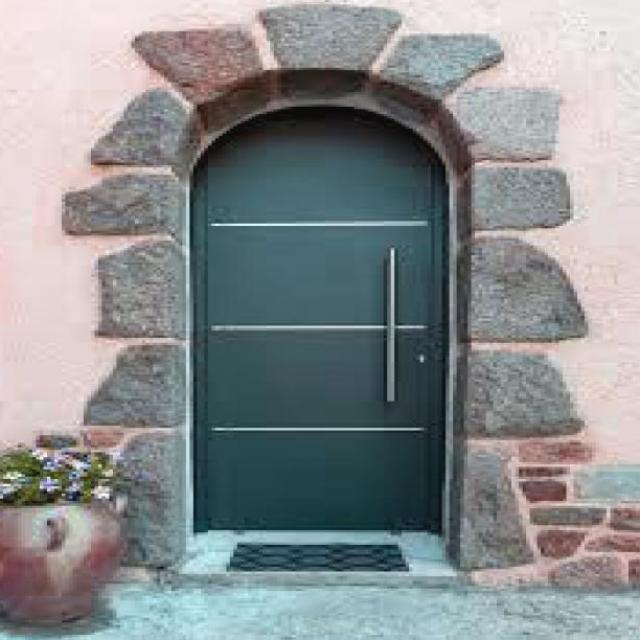door: (192, 106, 447, 533)
